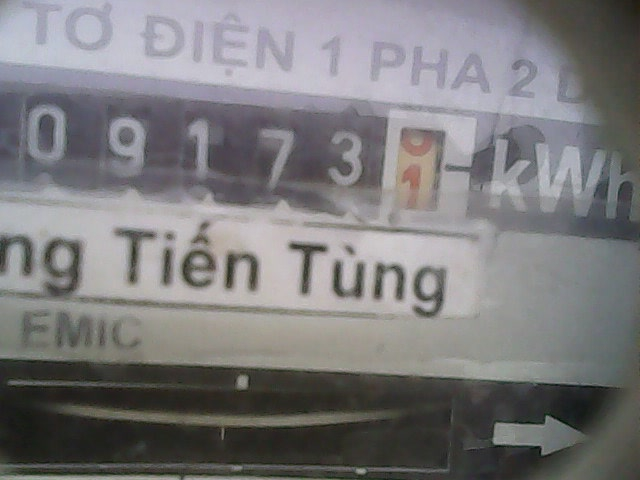phy_plate: (10, 81, 477, 237)
